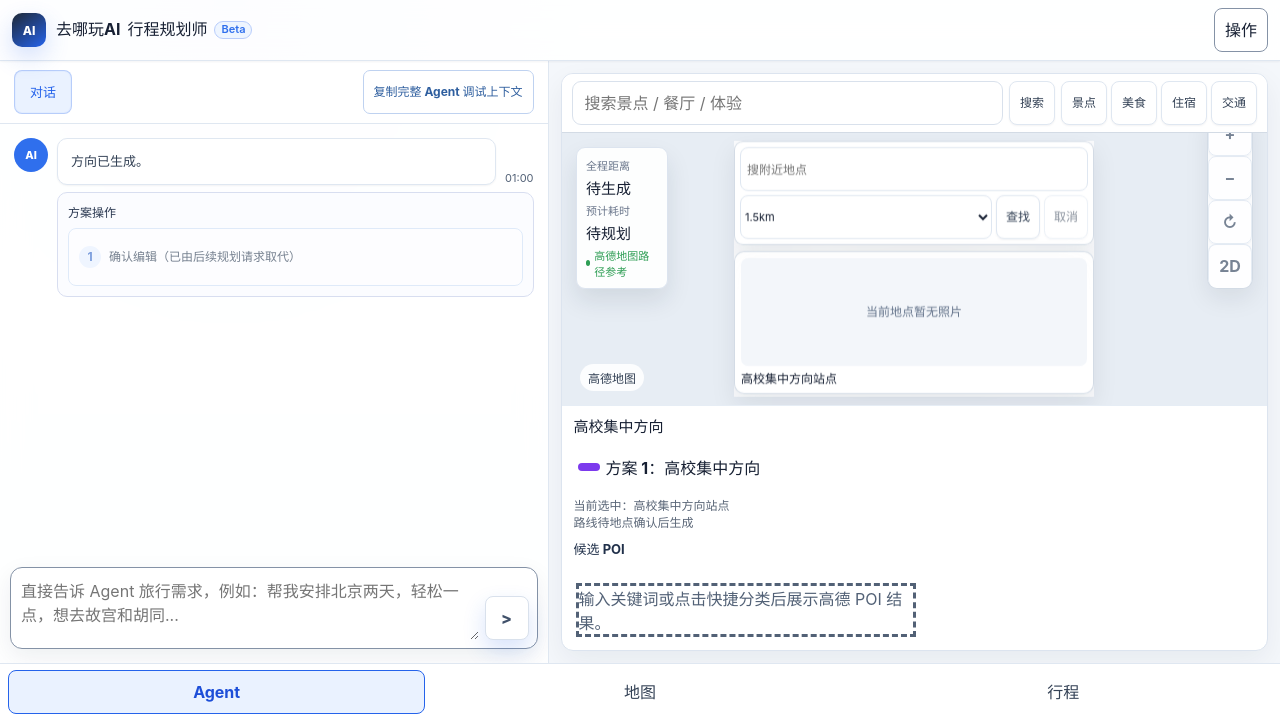
Test case: Agent auto-navigation preserves the new card but cannot bypass a failing save
Type "生成其他方向" into the text box named "Agent 对话文本" at x=249, y=608, box [19,576,479,640]
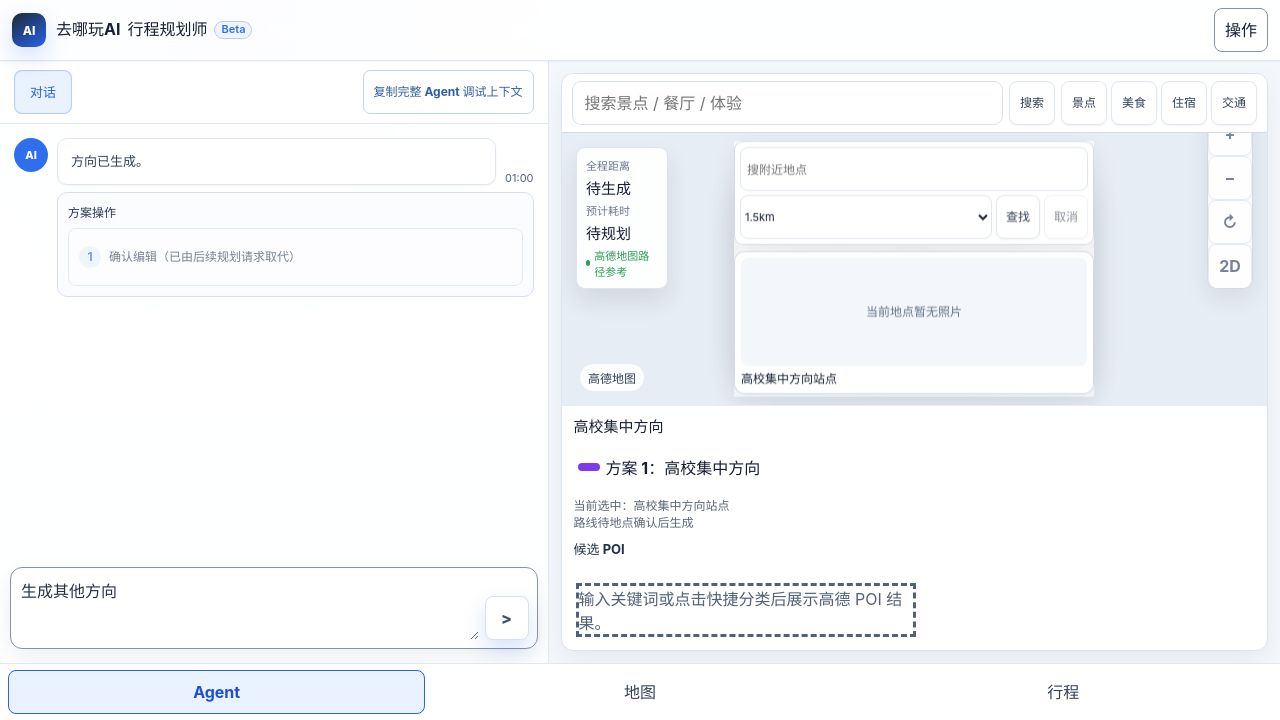
Press Enter in the text box named "Agent 对话文本", box [19,576,479,640]
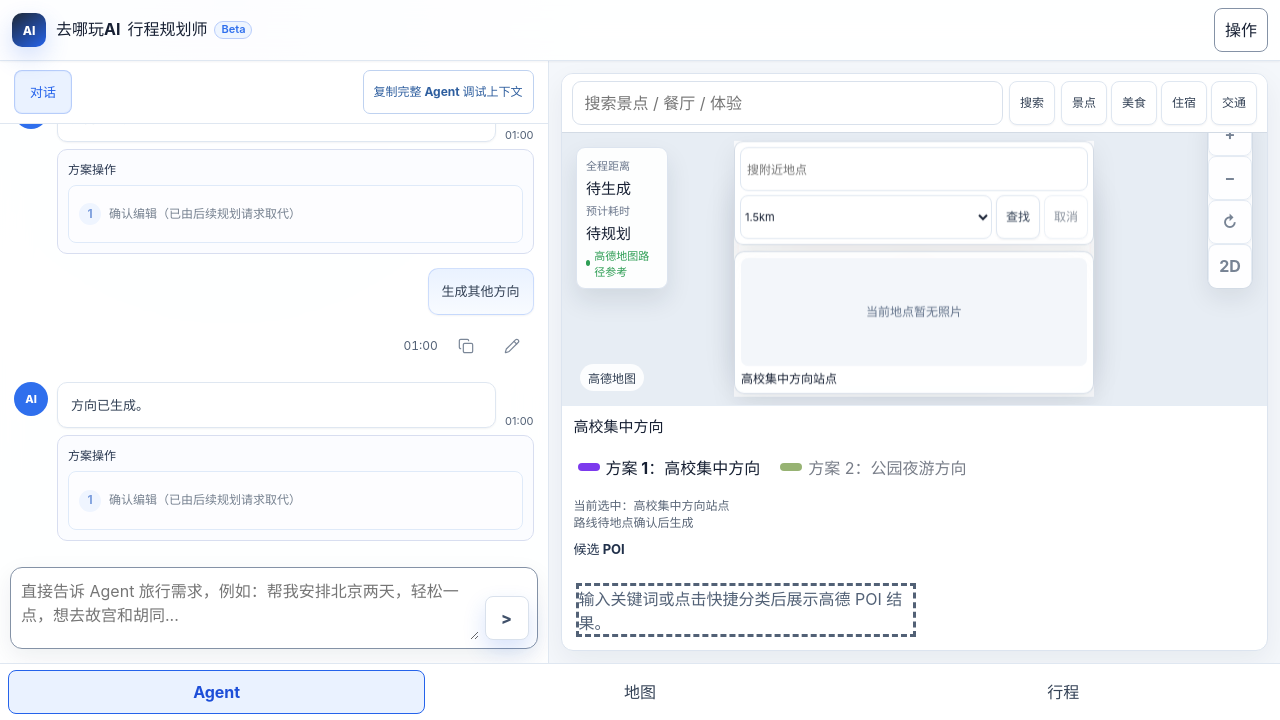
Now the text "生成其他方向" is shown, box [442,281,520,302]
